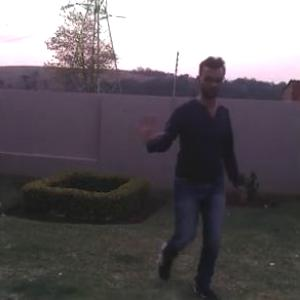follow_hand: (132, 110, 166, 144)
